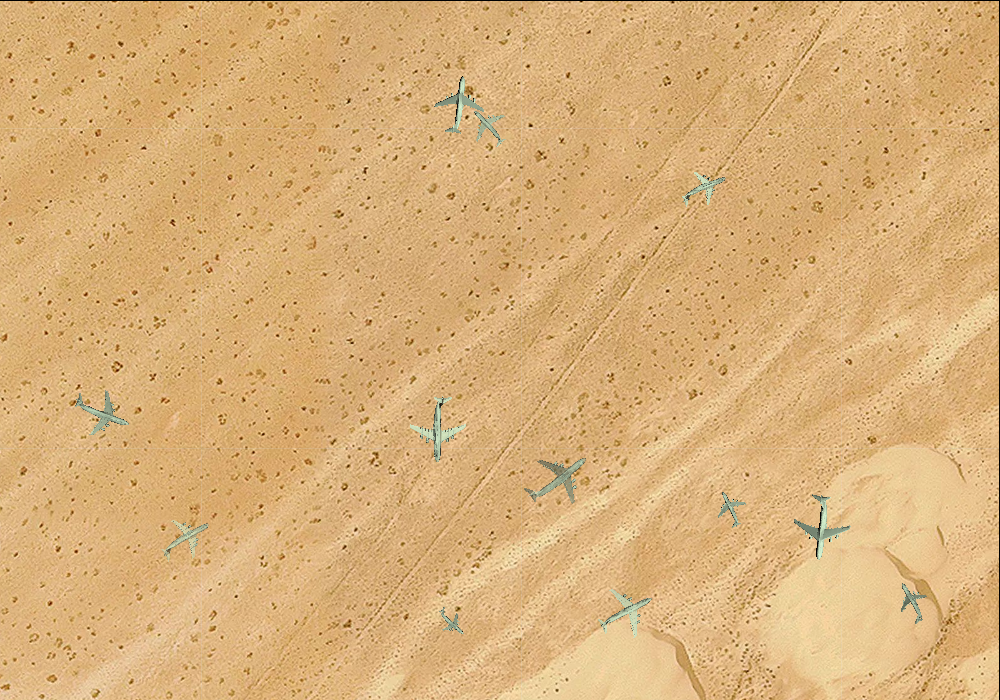plane: (510, 431, 604, 524), (586, 574, 665, 651), (64, 376, 138, 448), (149, 504, 222, 575), (785, 490, 855, 563), (408, 395, 471, 462), (427, 72, 488, 136), (458, 97, 518, 157), (673, 160, 735, 218), (884, 575, 938, 631), (705, 484, 754, 534), (429, 600, 474, 643)
